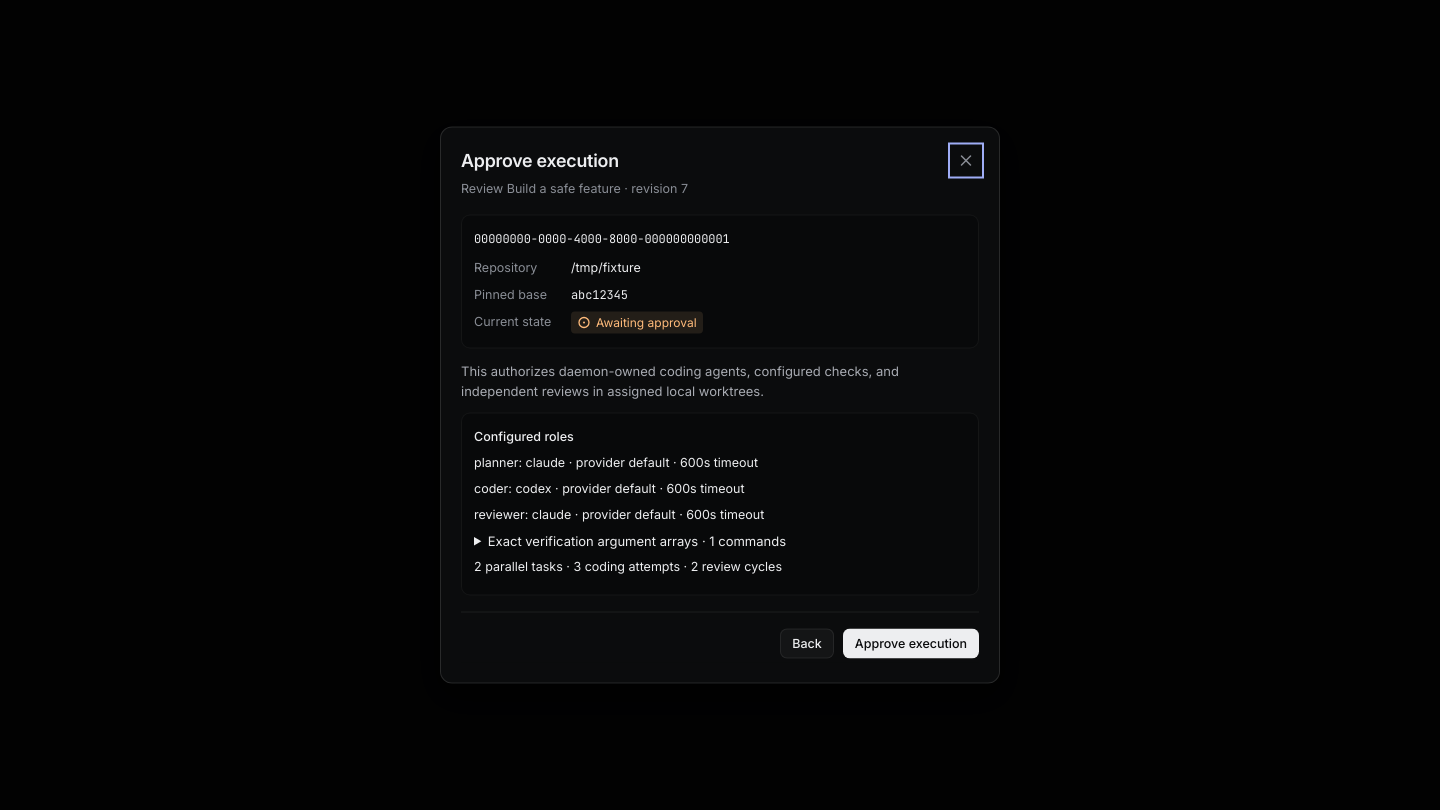
Test: explicit approvals and errors › shows rejected and stale actions without a success message
What coordinates should you click on to do the following:
click the button "Approve execution"
I would click on:
 (911, 644)
Its box is [843,628,979,658].
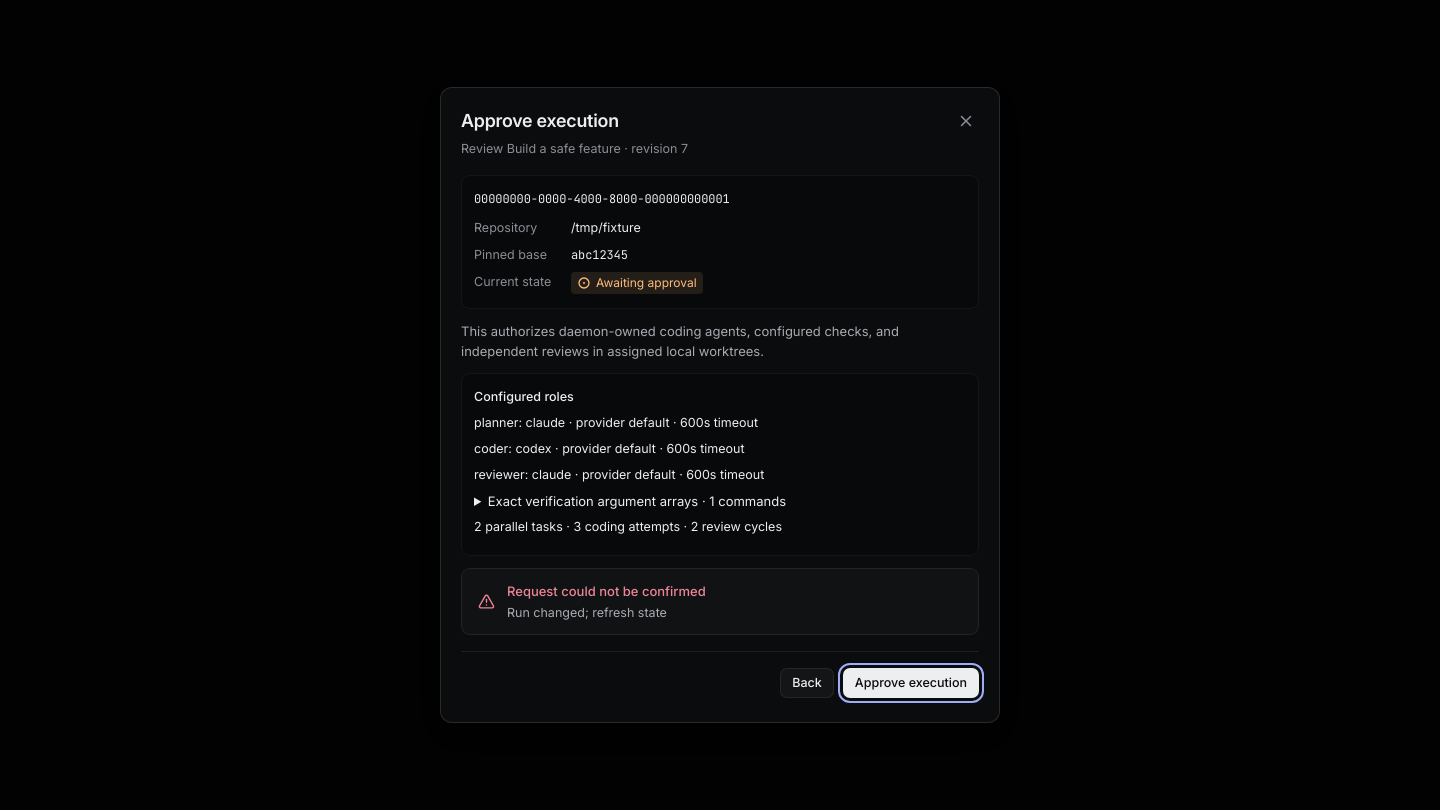
Result: the message shows "Run changed" at [507,605,667,620]
